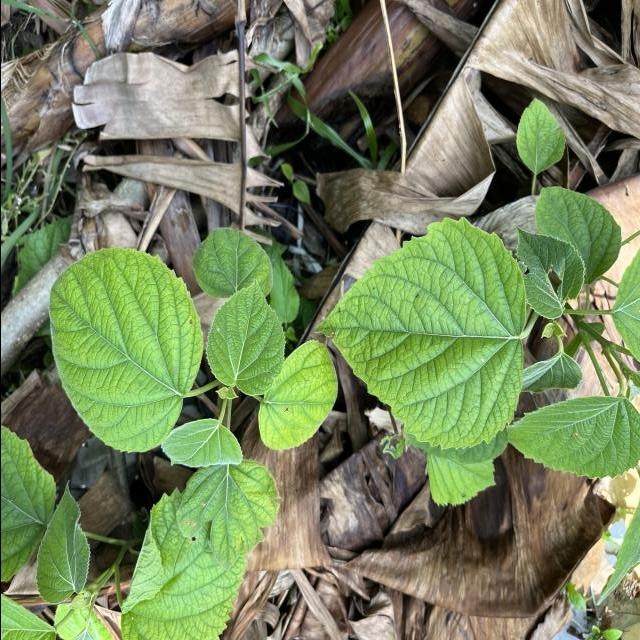Clerodendrum infortunatum: (313, 213, 527, 452), (46, 245, 204, 454), (505, 393, 640, 482), (203, 276, 286, 396), (256, 338, 338, 452), (190, 227, 273, 298), (158, 417, 243, 469)
